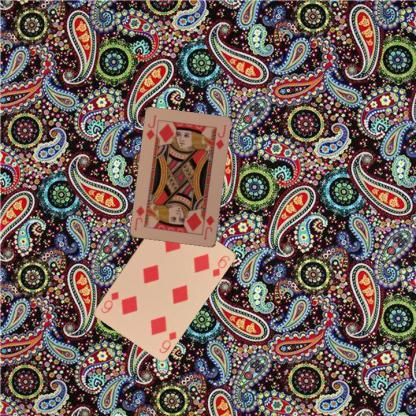6d: (157, 328, 178, 354)
Jd: (202, 213, 216, 241), (144, 113, 158, 141)
